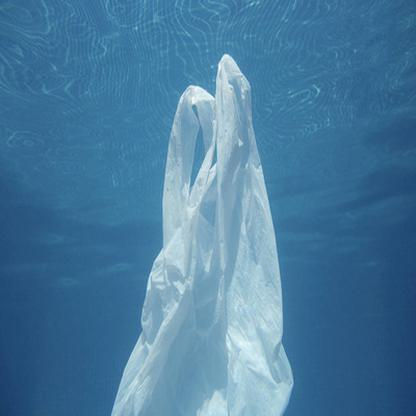plastic bag: (107, 52, 292, 416)
